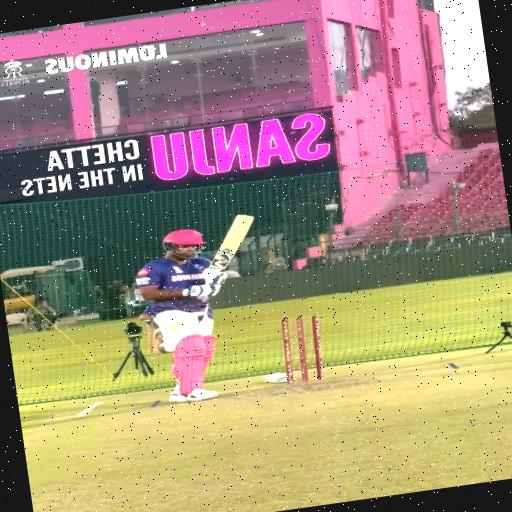Cricket bat: (211, 215, 254, 275)
